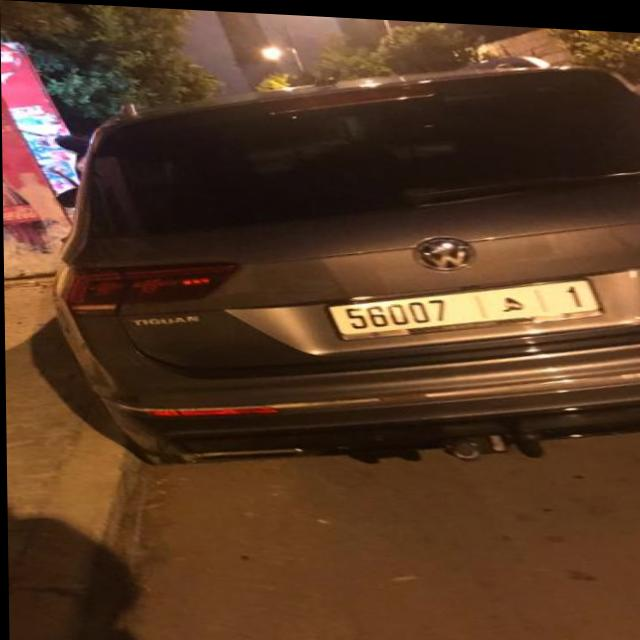License-Plate: (328, 274, 599, 334)
